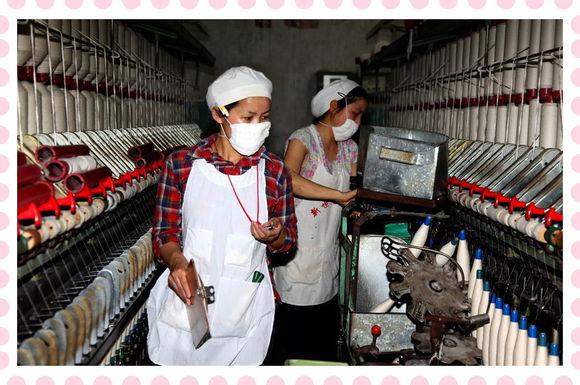OK: (227, 106, 274, 155)
WRONG: (329, 107, 364, 142)
